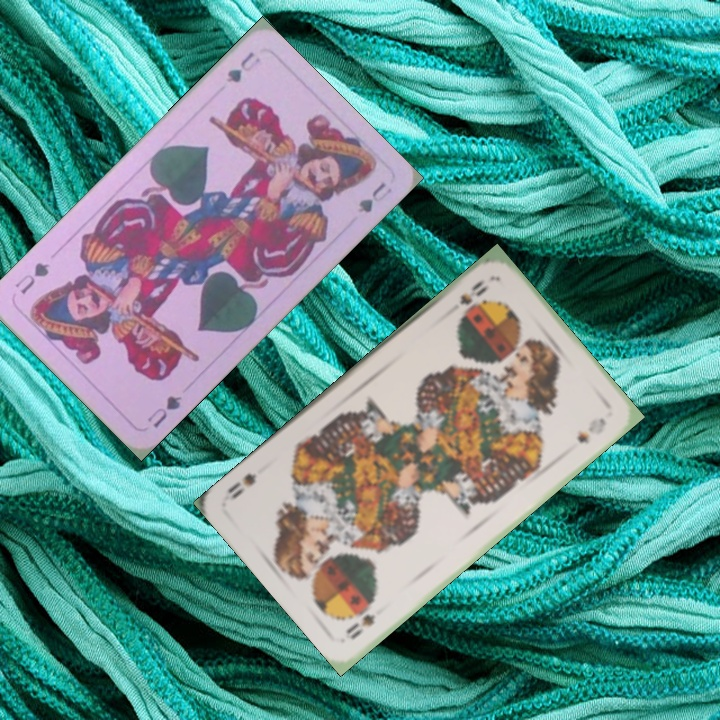GU: (143, 391, 185, 431), (222, 47, 263, 85)
SO: (455, 275, 492, 317), (342, 609, 378, 643)
